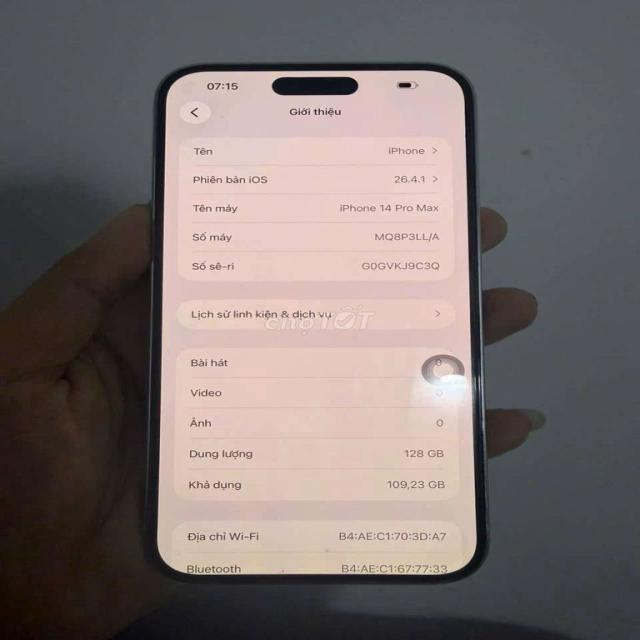gen_14: (136, 54, 508, 594)
